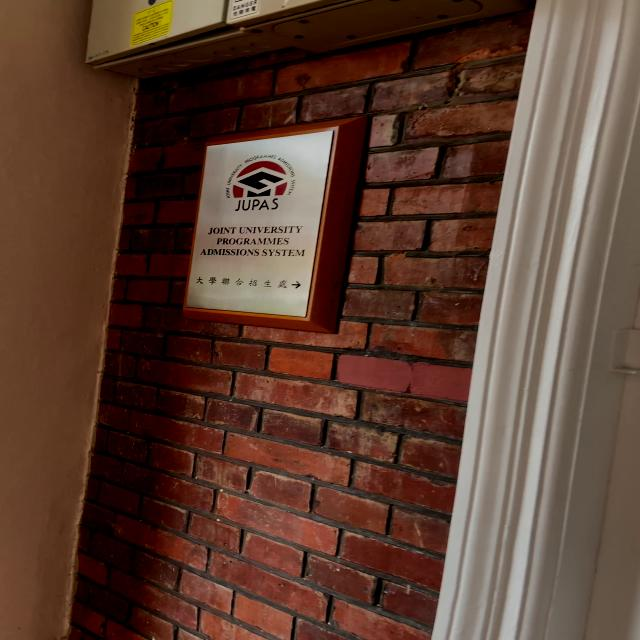jupasOffice: (184, 108, 384, 338)
